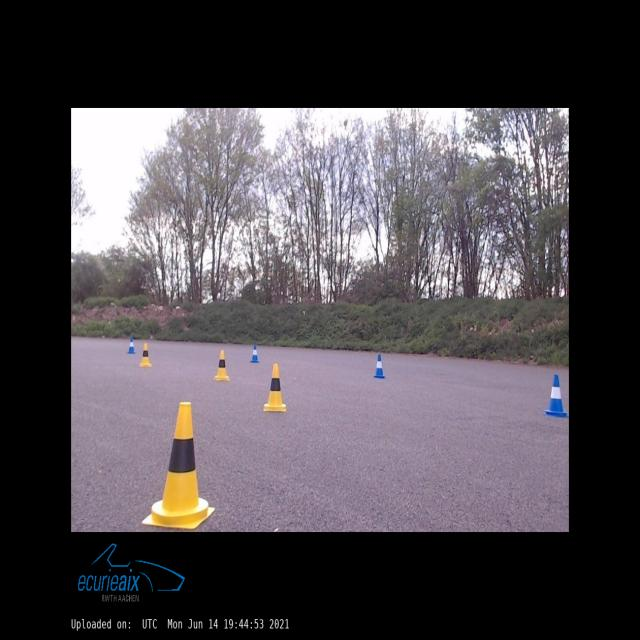blue_cone: (545, 374, 567, 416), (373, 355, 385, 378), (250, 345, 259, 362), (128, 337, 135, 353)
yellow_cone: (143, 403, 215, 528), (264, 364, 286, 411), (214, 350, 230, 381), (140, 343, 151, 367)
